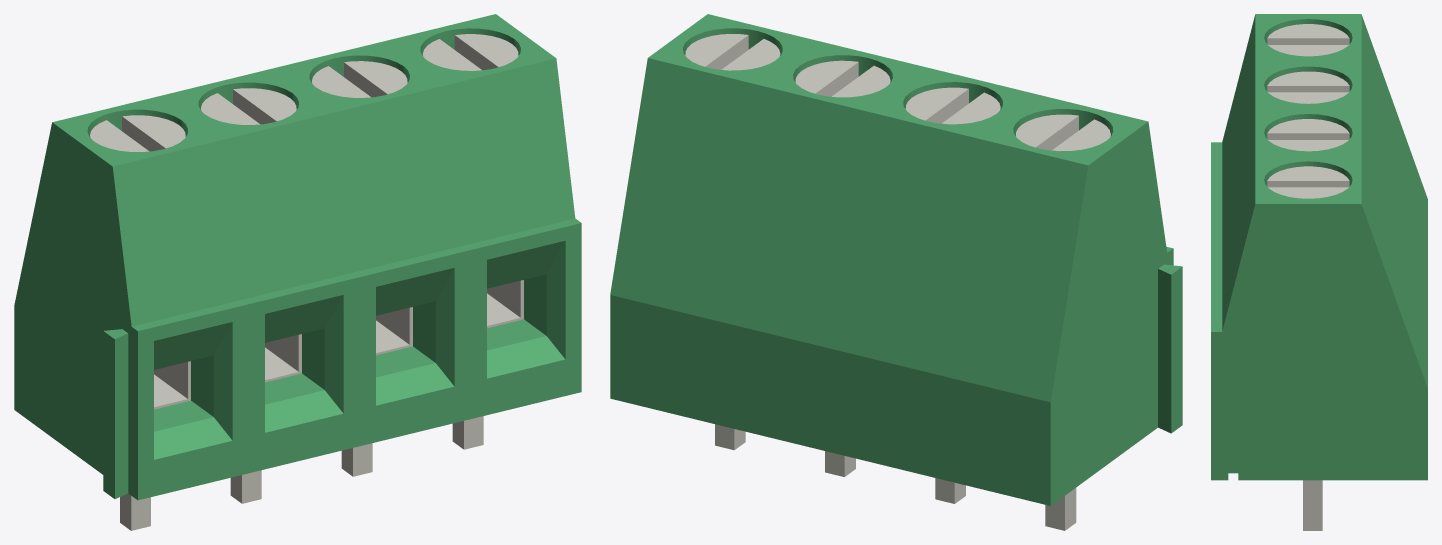
Rendered from kc-terminalblock_phoenix_mkds-1_5-4-5.08_1x04_p5.08mm_horizontal.glb.
3 renders of one model, left to right at view 1: azimuth 30°, elevation 25°; view 2: azimuth 150°, elevation 25°; view 3: azimuth 270°, elevation 25°, orthographic. The views are drawn at different scales.
Visible parts, largest first — view 1: 0.08333333333333333_0.4166666666666667_0.16666666666666666_0, 0.6666666666666666_0.6666666666666666_0.5833333333333334_0.8; view 2: 0.08333333333333333_0.4166666666666667_0.16666666666666666_0, 0.6666666666666666_0.6666666666666666_0.5833333333333334_0.8; view 3: 0.08333333333333333_0.4166666666666667_0.16666666666666666_0, 0.6666666666666666_0.6666666666666666_0.5833333333333334_0.8.
Part boxes in pixels (<box>): 0.08333333333333333_0.4166666666666667_0.16666666666666666_0: <box>14,14,581,500</box>; 0.6666666666666666_0.6666666666666666_0.5833333333333334_0.8: <box>90,34,523,530</box>; 0.08333333333333333_0.4166666666666667_0.16666666666666666_0: <box>610,14,1182,505</box>; 0.6666666666666666_0.6666666666666666_0.5833333333333334_0.8: <box>685,34,1110,530</box>; 0.08333333333333333_0.4166666666666667_0.16666666666666666_0: <box>1211,14,1427,480</box>; 0.6666666666666666_0.6666666666666666_0.5833333333333334_0.8: <box>1267,24,1349,530</box>.
Size of the model in its own units: 2.11 by 1.73 by 0.9801.
